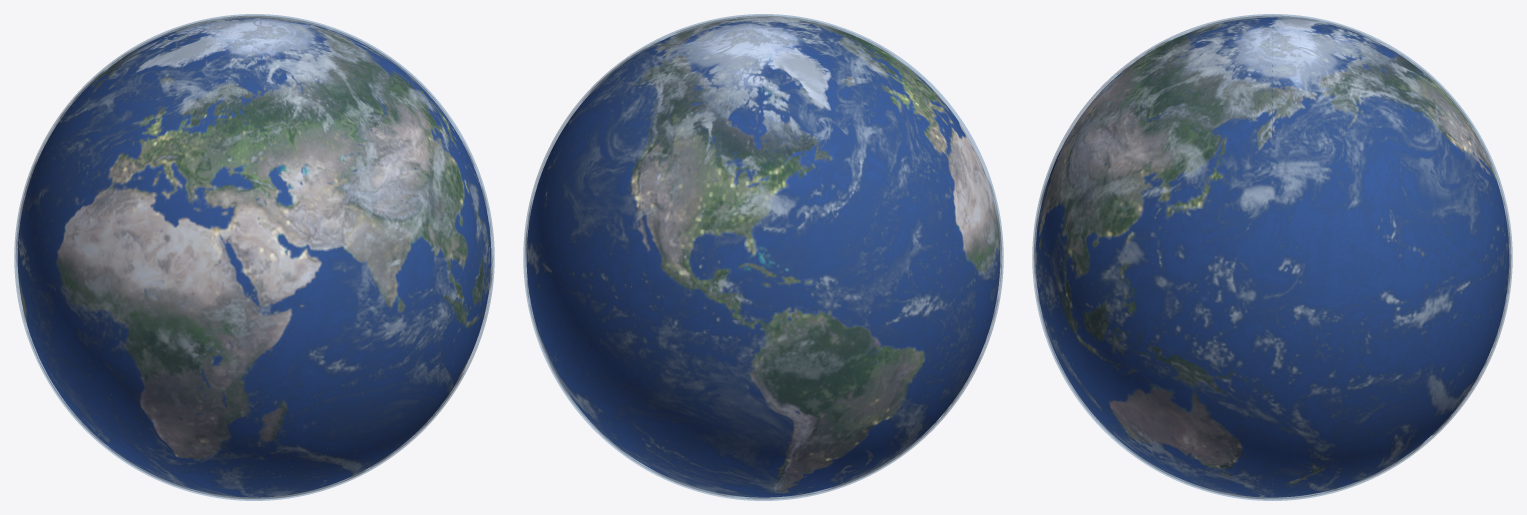
The model's file is earth.glb.
The picture shows the model from 3 angles, left to right: view 1: azimuth 30°, elevation 25°; view 2: azimuth 150°, elevation 25°; view 3: azimuth 270°, elevation 25°; orthographic projection.
Parts seen in each view (by area): view 1: pSphere5, pSphere1, pSphere4; view 2: pSphere5, pSphere1, pSphere4; view 3: pSphere5, pSphere1, pSphere4.
Part boxes in pixels (x1=…): pSphere5: x1=14, y1=14, x2=494, y2=500; pSphere1: x1=17, y1=17, x2=491, y2=497; pSphere4: x1=16, y1=15, x2=492, y2=499; pSphere5: x1=523, y1=14, x2=1003, y2=500; pSphere1: x1=526, y1=17, x2=1000, y2=497; pSphere4: x1=525, y1=15, x2=1001, y2=499; pSphere5: x1=1032, y1=14, x2=1512, y2=500; pSphere1: x1=1035, y1=17, x2=1509, y2=497; pSphere4: x1=1034, y1=15, x2=1510, y2=499.
Bounding box in the file's own units: 192 × 196 × 192.
3 materials, 2 textured.
